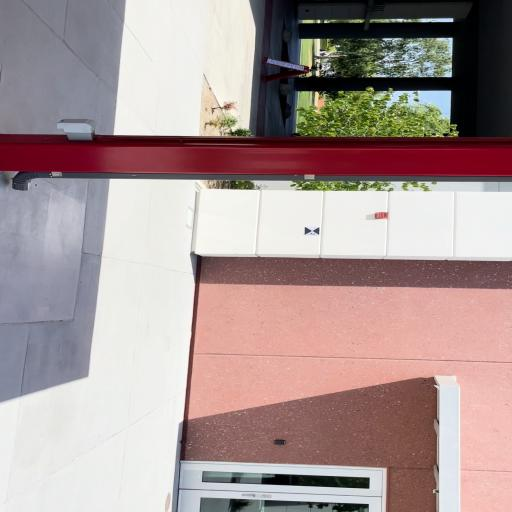target2: (304, 226, 321, 236)
